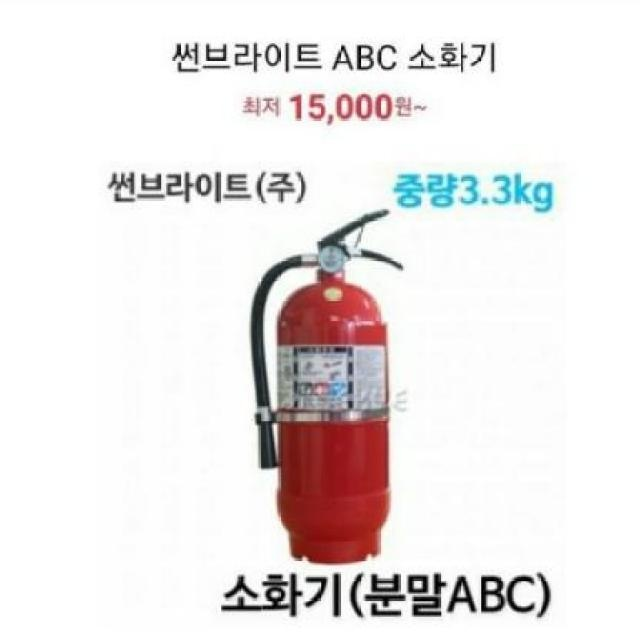fire extinguisher: (249, 209, 406, 565)
